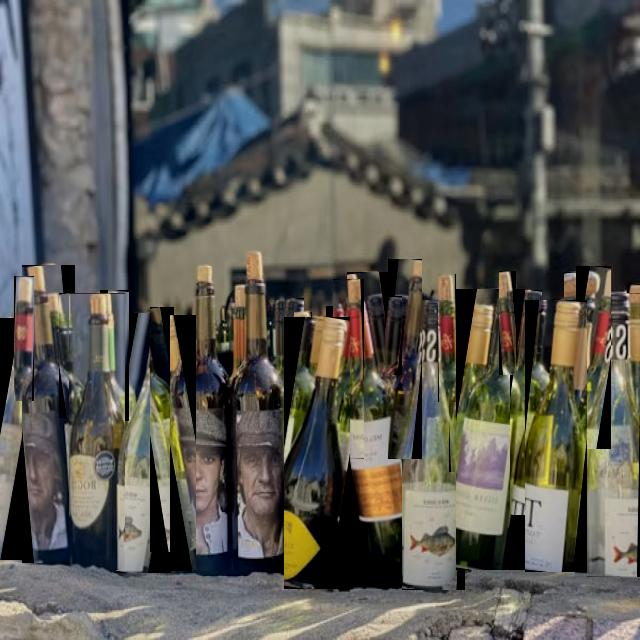Bottle: (173, 265, 231, 574), (402, 301, 464, 590), (283, 318, 348, 588), (346, 272, 401, 587), (231, 252, 283, 574), (464, 289, 523, 570), (524, 301, 585, 571), (22, 265, 73, 563), (586, 293, 639, 577), (69, 293, 123, 570), (116, 313, 169, 573), (576, 266, 610, 449), (390, 259, 420, 459), (509, 291, 540, 480), (332, 279, 362, 459), (0, 319, 21, 560), (274, 299, 303, 470), (149, 308, 178, 477), (449, 306, 476, 472), (100, 291, 128, 420), (564, 272, 589, 402), (58, 293, 83, 418), (13, 276, 33, 401), (326, 306, 347, 416), (438, 275, 454, 402), (169, 410, 180, 571), (499, 272, 515, 375), (627, 285, 639, 406), (178, 316, 195, 398), (164, 309, 181, 388), (231, 285, 245, 379), (385, 296, 401, 375), (294, 312, 310, 378), (216, 306, 231, 375)
